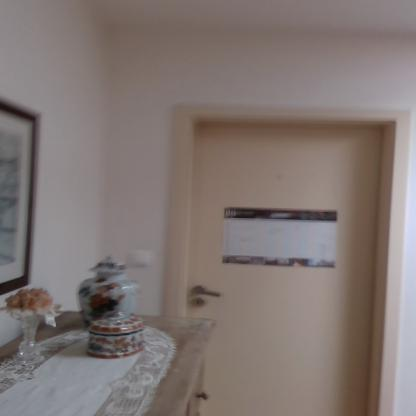door: (192, 127, 377, 416)
lever: (195, 288, 226, 300)
